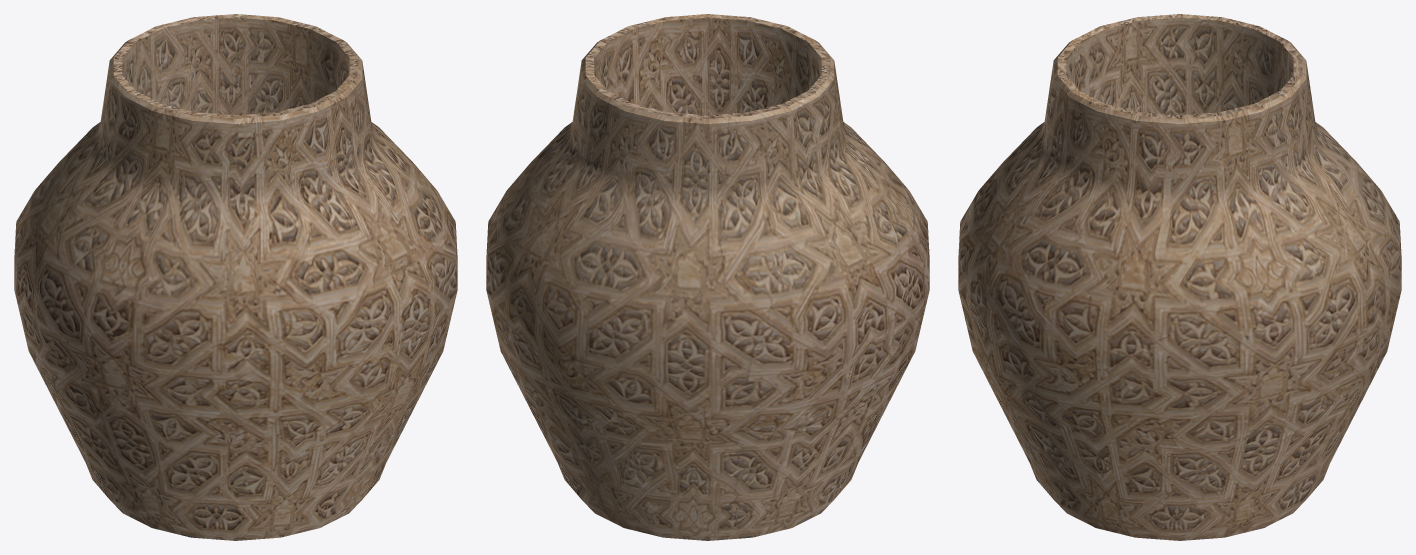
The model's file is Arabic vase 2.fbx.
3 renders of one model, left to right at view 1: azimuth 30°, elevation 25°; view 2: azimuth 150°, elevation 25°; view 3: azimuth 270°, elevation 25°, orthographic.
Visible parts, largest first — view 1: Arabic vase 2; view 2: Arabic vase 2; view 3: Arabic vase 2.
Boxes of the visible parts, x1,y1,x2,y2 form: Arabic vase 2: (14, 14, 457, 540); Arabic vase 2: (486, 14, 929, 540); Arabic vase 2: (958, 14, 1401, 540).
Bounding box in the file's own units: 40.46 × 41.59 × 39.85.
1 material, 1 textured.
